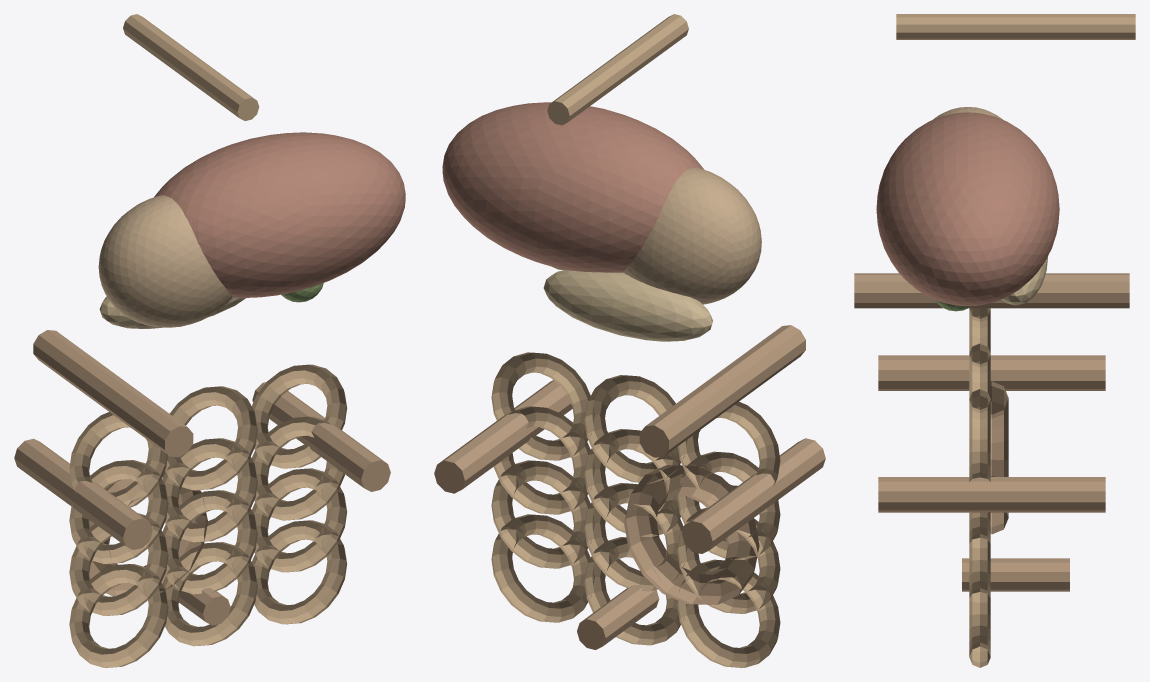
Rendered from digestive.glb.
3 renders of one model, left to right at view 1: azimuth 30°, elevation 25°; view 2: azimuth 150°, elevation 25°; view 3: azimuth 270°, elevation 25°, orthographic. The views are drawn at different scales.
Parts seen in each view (by area): view 1: world; view 2: world; view 3: world.
Boxes of the visible parts, x1,y1,x2,y2 form: world: (14, 14, 405, 667); world: (434, 14, 825, 667); world: (854, 14, 1135, 667).
Bounding box in the file's own units: 0.65 × 1.11 × 0.47.
